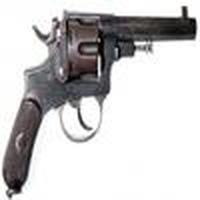gun: (3, 11, 199, 199)
